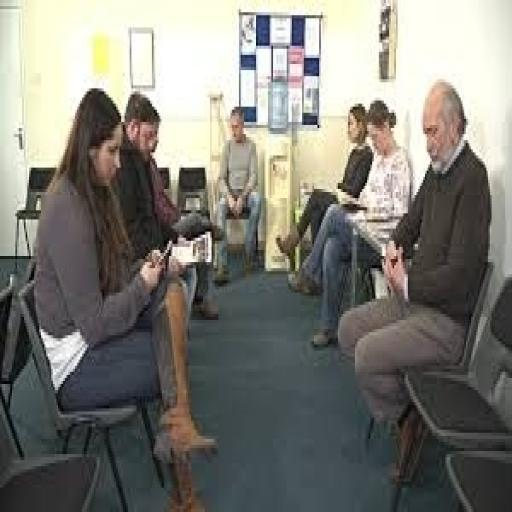sitting: (31, 86, 218, 464), (336, 76, 493, 482), (213, 104, 263, 284)
